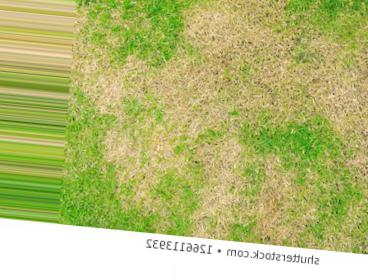patch: (157, 71, 231, 130), (205, 17, 271, 54), (223, 152, 269, 200), (309, 70, 358, 115), (190, 200, 223, 240), (93, 73, 127, 105), (282, 191, 311, 226), (116, 141, 150, 167), (260, 64, 287, 94), (241, 104, 275, 125)
